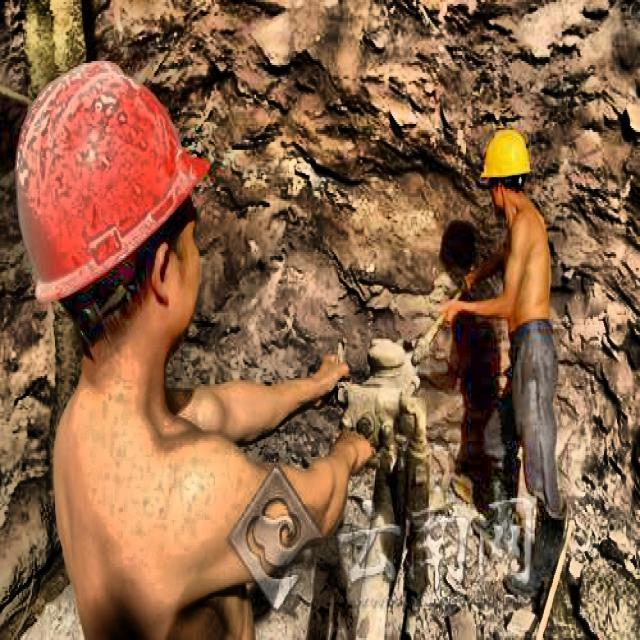helmet: (4, 28, 247, 441), (479, 122, 535, 223)
